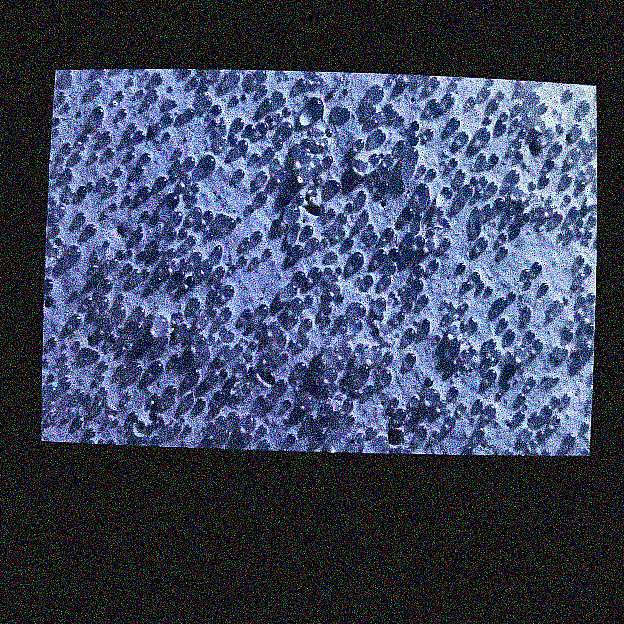GrassBeadSeg: (58, 95, 554, 413), (72, 82, 525, 399), (58, 121, 563, 360), (132, 122, 514, 425), (129, 114, 492, 426), (104, 149, 487, 443), (61, 93, 465, 369), (125, 166, 593, 404), (241, 105, 580, 429), (61, 140, 404, 431), (135, 100, 475, 392), (169, 132, 485, 437), (146, 87, 573, 312), (157, 149, 524, 403), (178, 100, 549, 350), (55, 89, 488, 302), (219, 109, 587, 357), (232, 118, 507, 446), (150, 178, 586, 372), (298, 86, 573, 393), (259, 130, 530, 441), (152, 98, 440, 390), (340, 85, 583, 422), (138, 150, 544, 350), (247, 90, 530, 372), (55, 131, 420, 348), (89, 78, 472, 284), (196, 84, 489, 344), (299, 136, 562, 424), (260, 100, 574, 338), (163, 191, 494, 415), (234, 227, 582, 435), (302, 173, 551, 451), (171, 156, 443, 407), (180, 121, 433, 384), (54, 178, 317, 425), (313, 86, 491, 438), (132, 304, 574, 443), (84, 96, 440, 268), (59, 178, 391, 362), (194, 188, 482, 399), (293, 136, 537, 385), (132, 121, 319, 439), (48, 286, 482, 423), (115, 212, 597, 335), (168, 180, 493, 362), (263, 112, 475, 391), (369, 158, 576, 440), (148, 126, 387, 370), (242, 220, 560, 400), (321, 147, 593, 357), (66, 110, 310, 343), (338, 122, 583, 354), (180, 172, 394, 435), (254, 89, 504, 309), (185, 181, 474, 371), (126, 120, 295, 442), (255, 117, 425, 437), (363, 100, 523, 437), (169, 208, 454, 396), (51, 223, 392, 379), (235, 80, 485, 286), (146, 237, 447, 406), (448, 78, 586, 435), (191, 173, 479, 344), (225, 84, 471, 283), (302, 172, 473, 453), (69, 243, 531, 347), (150, 274, 457, 430), (86, 125, 491, 240), (112, 163, 586, 259), (394, 137, 585, 375), (166, 97, 590, 203), (139, 208, 508, 324), (170, 121, 562, 219), (125, 75, 254, 355), (133, 109, 509, 203), (304, 234, 496, 412), (245, 184, 452, 347), (189, 104, 505, 207), (233, 167, 543, 271), (205, 233, 425, 378), (384, 261, 592, 409), (105, 183, 333, 312), (342, 185, 579, 309), (432, 145, 583, 339), (357, 76, 494, 288), (401, 155, 555, 337), (408, 99, 500, 402), (392, 84, 550, 258), (196, 93, 312, 326), (320, 144, 592, 242), (187, 83, 384, 218), (327, 136, 590, 237), (200, 201, 494, 291), (181, 66, 327, 244), (187, 166, 365, 308), (98, 145, 276, 286), (282, 280, 476, 409), (424, 126, 586, 279), (381, 128, 502, 327), (186, 100, 440, 192), (164, 178, 499, 246), (403, 252, 586, 364), (198, 152, 387, 259), (283, 168, 355, 447), (137, 185, 489, 242), (323, 150, 499, 262), (262, 95, 321, 390), (101, 202, 301, 289), (482, 202, 551, 454), (381, 97, 497, 246), (486, 201, 571, 403), (165, 229, 583, 270), (346, 114, 461, 261), (224, 233, 488, 297), (101, 241, 221, 381), (183, 105, 459, 164), (322, 175, 520, 255), (335, 75, 442, 221), (262, 147, 400, 257), (67, 150, 152, 322), (369, 223, 501, 331), (285, 217, 481, 289), (206, 218, 466, 271), (218, 102, 268, 375), (322, 88, 499, 163), (141, 172, 415, 219), (324, 206, 508, 272), (466, 128, 526, 326), (505, 108, 543, 418), (507, 92, 597, 217), (109, 324, 223, 413), (208, 116, 246, 373), (397, 111, 530, 184), (254, 168, 437, 221), (137, 165, 435, 196), (255, 82, 305, 255), (52, 164, 133, 269), (102, 237, 216, 310), (492, 114, 586, 199), (61, 184, 553, 200), (522, 342, 592, 452), (294, 76, 381, 163), (418, 204, 480, 324), (220, 306, 271, 448), (154, 81, 222, 185), (57, 210, 126, 308), (186, 365, 267, 448), (60, 68, 136, 153), (516, 193, 554, 357), (198, 257, 306, 312), (150, 70, 196, 190), (442, 277, 548, 329), (283, 70, 368, 133), (336, 385, 440, 436), (319, 361, 378, 446), (185, 316, 267, 377), (119, 75, 209, 128), (235, 346, 286, 438), (253, 245, 295, 356), (297, 299, 366, 366), (431, 304, 466, 436), (113, 363, 185, 425), (282, 72, 350, 134), (81, 247, 151, 307), (155, 120, 227, 178), (278, 120, 313, 235), (65, 68, 173, 105), (44, 259, 118, 311), (550, 208, 584, 320), (342, 288, 399, 354), (47, 368, 103, 435), (75, 338, 132, 398), (353, 204, 450, 239), (276, 266, 321, 341), (512, 161, 597, 196), (95, 294, 132, 373), (443, 311, 501, 359), (373, 109, 406, 190), (214, 247, 266, 298), (465, 343, 561, 370), (282, 362, 334, 411), (464, 93, 526, 134), (508, 202, 583, 235), (343, 396, 398, 441), (489, 352, 525, 418), (49, 179, 116, 214), (355, 382, 389, 449), (92, 150, 133, 205), (105, 317, 143, 376), (521, 309, 568, 355), (381, 237, 435, 277), (52, 101, 105, 140), (152, 414, 221, 443), (269, 149, 323, 185), (364, 92, 456, 113), (494, 179, 536, 225), (74, 128, 134, 159), (221, 234, 253, 291), (235, 340, 278, 382), (196, 395, 239, 436), (333, 272, 383, 307), (226, 68, 254, 130), (371, 261, 412, 302), (324, 281, 362, 325), (55, 129, 114, 157), (306, 96, 324, 182), (453, 335, 496, 370), (251, 118, 284, 162), (207, 114, 248, 149), (307, 134, 328, 199), (514, 409, 546, 450), (292, 269, 392, 282), (449, 318, 476, 366), (513, 86, 545, 124), (368, 77, 397, 118), (351, 321, 382, 359), (254, 67, 285, 104), (511, 89, 540, 126), (578, 292, 595, 355), (43, 335, 75, 368), (325, 286, 385, 302), (551, 290, 593, 310), (524, 190, 556, 214), (230, 115, 249, 151), (489, 218, 520, 238), (502, 295, 515, 340), (496, 295, 530, 312), (309, 105, 350, 119), (311, 264, 342, 280), (242, 302, 269, 319), (215, 211, 236, 228), (222, 307, 253, 318), (274, 95, 286, 120), (268, 319, 281, 338), (316, 179, 318, 182)
